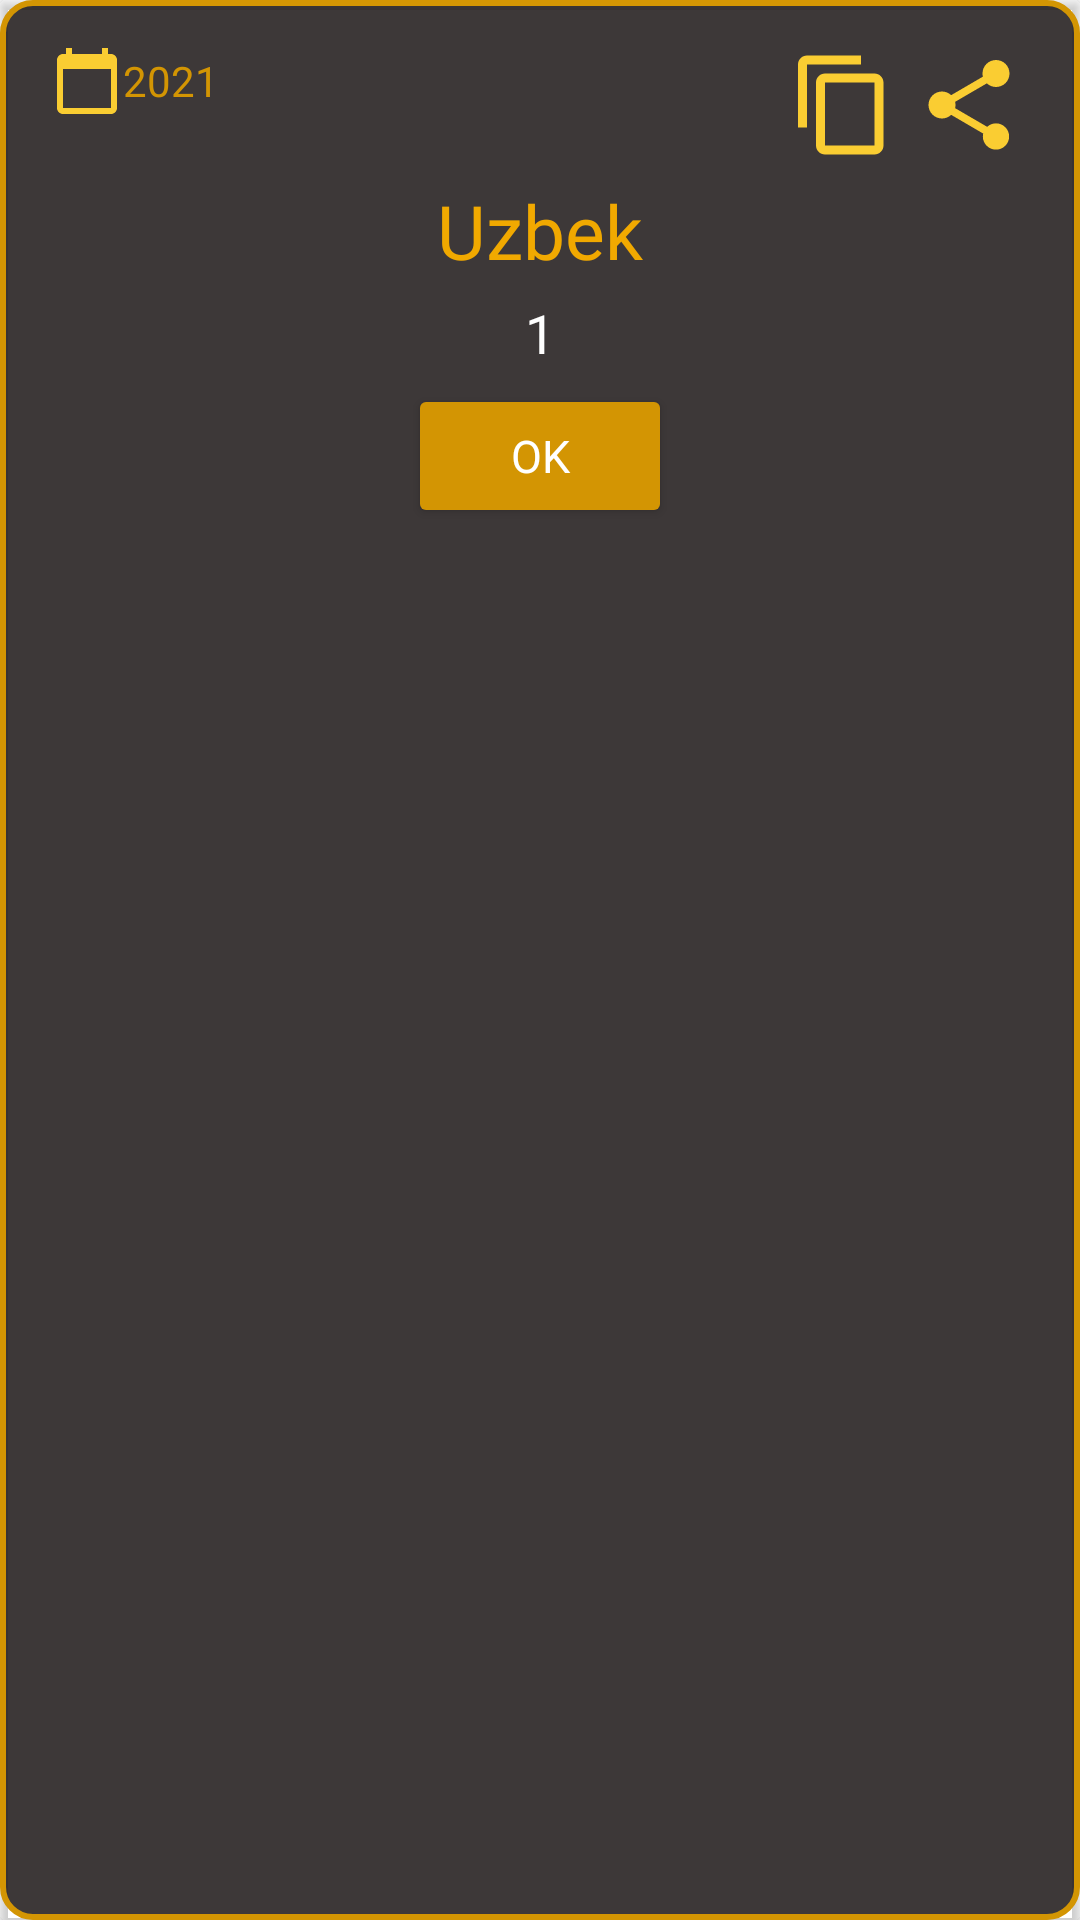

Point at icon controls on the screen. Image size 1080px×1920px, points as point (x, y).
share: point (969, 105)
